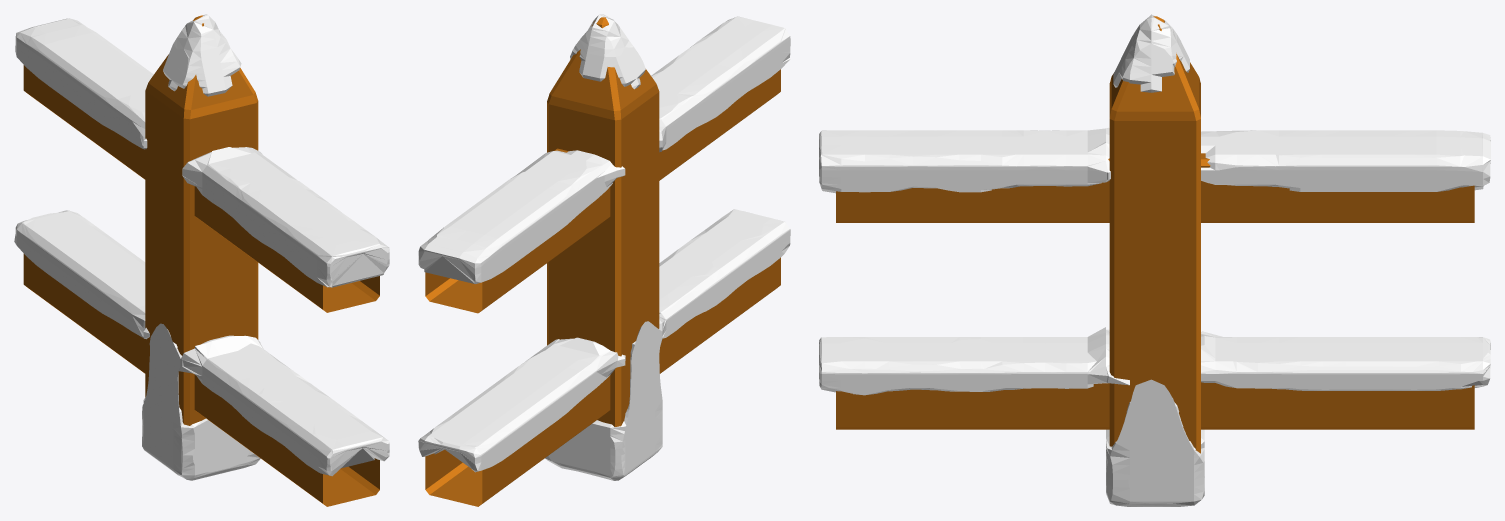
Rendered from FenceWSnow_01.obj.
The picture shows the model from 3 angles, left to right: view 1: azimuth 30°, elevation 25°; view 2: azimuth 150°, elevation 25°; view 3: azimuth 270°, elevation 25°; orthographic projection. The views are drawn at different scales.
Parts seen in each view (by area): view 1: FenceWSnow_01_Cube; view 2: FenceWSnow_01_Cube; view 3: FenceWSnow_01_Cube.
Boxes of the visible parts, x1=… form: FenceWSnow_01_Cube: x1=14, y1=14, x2=389, y2=506; FenceWSnow_01_Cube: x1=418, y1=14, x2=790, y2=506; FenceWSnow_01_Cube: x1=819, y1=14, x2=1490, y2=506.
Size of the model in its own units: 0.3547 by 1.88 by 2.41.
